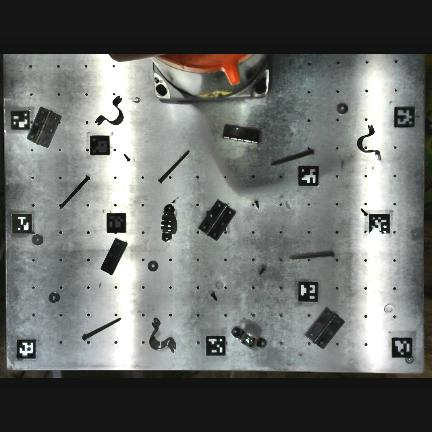black_screw: (96, 96, 122, 122), (211, 292, 217, 300), (361, 207, 367, 215), (258, 266, 264, 273), (122, 153, 127, 158), (255, 203, 259, 207)
clamp: (357, 124, 381, 161), (232, 327, 267, 348), (149, 323, 176, 350), (96, 96, 122, 122), (161, 204, 174, 242)
golden_screw: (174, 151, 185, 166), (64, 191, 75, 204), (95, 326, 107, 332), (312, 253, 333, 256), (302, 149, 312, 152)
hinge: (307, 309, 346, 349), (199, 200, 236, 240), (27, 107, 62, 148), (101, 238, 127, 275), (223, 125, 260, 144)
marker: (394, 107, 415, 128), (12, 213, 32, 234), (370, 214, 390, 234), (299, 166, 319, 186), (298, 282, 318, 302), (206, 337, 226, 357), (10, 111, 29, 132), (392, 338, 412, 357), (17, 339, 36, 359), (107, 213, 126, 232), (90, 136, 109, 154)
washer: (48, 292, 61, 304), (31, 234, 40, 244), (147, 262, 158, 270), (385, 312, 393, 314), (336, 112, 345, 113)
